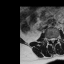CCS_normal: (52, 36, 53, 44)
LFS_normal: (55, 36, 57, 41)
LLS_normal: (53, 36, 55, 42)
RFS_normal: (48, 36, 50, 42)
RLS_normal: (50, 36, 52, 42)
